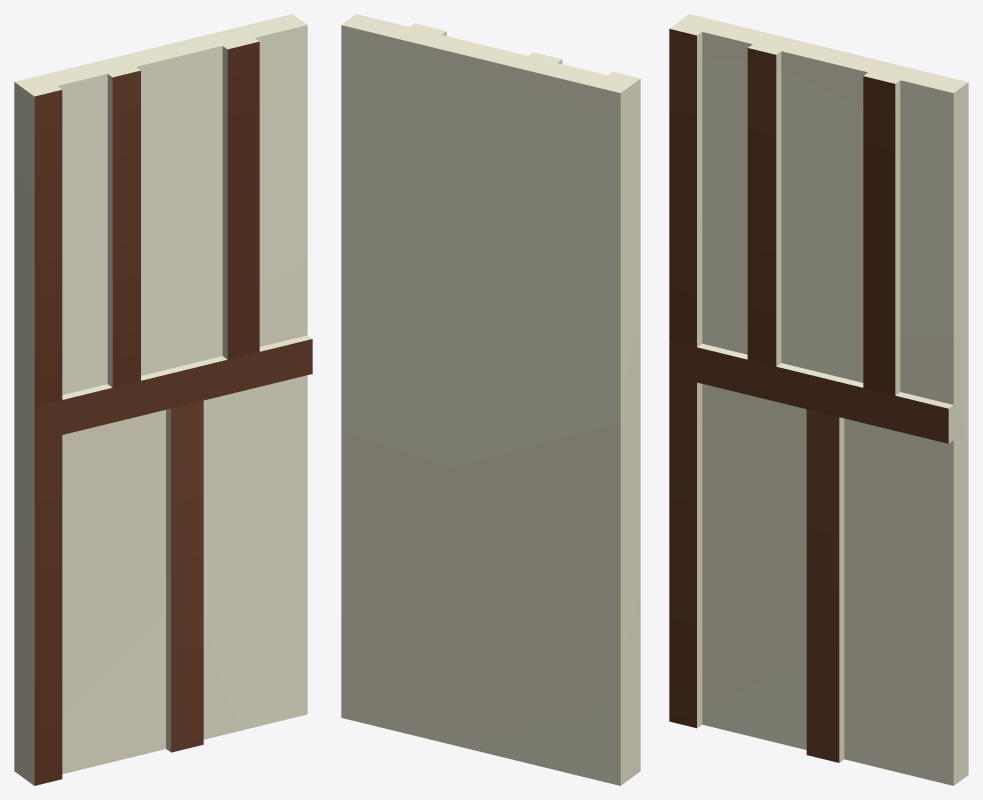
Rendered from House_Door_Sliding_R.gltf.
The picture shows the model from 3 angles, left to right: view 1: azimuth 30°, elevation 25°; view 2: azimuth 150°, elevation 25°; view 3: azimuth 330°, elevation 25°; orthographic projection.
Parts seen in each view (by area): view 1: House_Door_Sliding_R; view 2: House_Door_Sliding_R; view 3: House_Door_Sliding_R.
Boxes of the visible parts, <box> form: House_Door_Sliding_R: <box>14,14,312,785</box>; House_Door_Sliding_R: <box>341,14,640,785</box>; House_Door_Sliding_R: <box>669,14,968,785</box>.
Size of the model in its own units: 0.8 by 1.9 by 0.1.
Materials: 1 (1 with a texture image).
